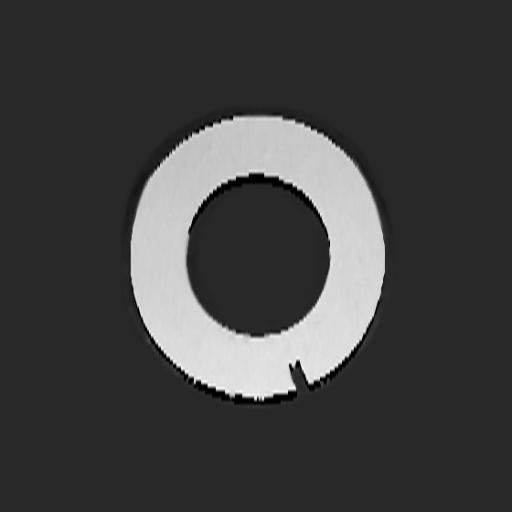defect: (288, 358, 309, 391)
